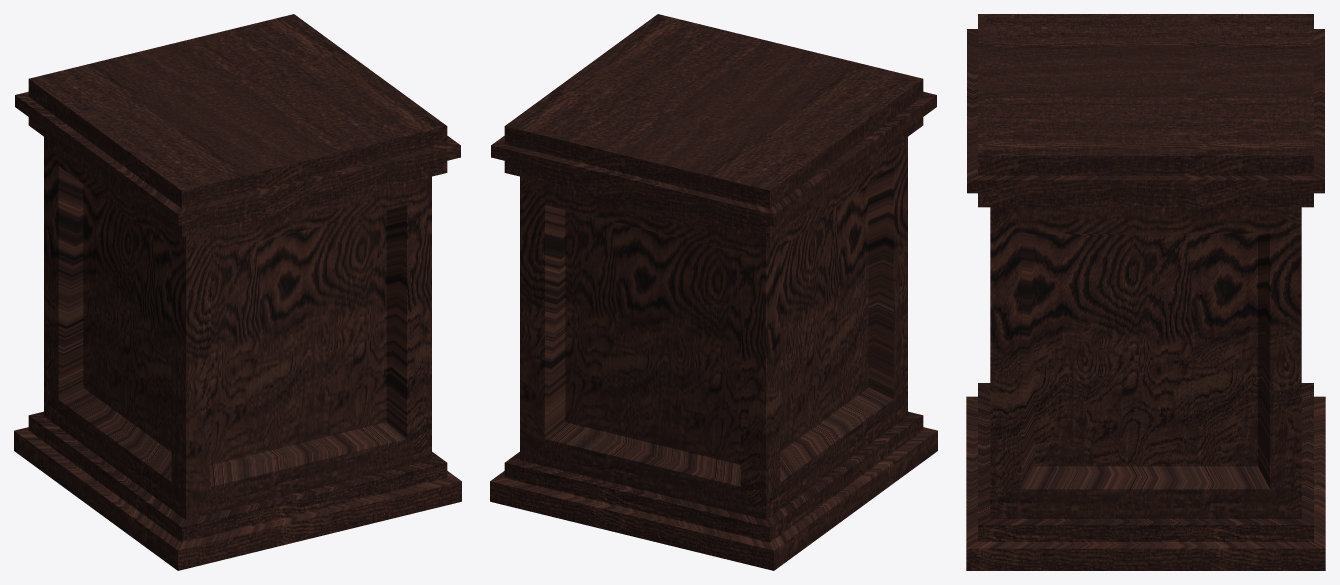
File: Object_Pedestal_DarkWoodClassic.glb
The picture shows the model from 3 angles, left to right: view 1: azimuth 30°, elevation 25°; view 2: azimuth 150°, elevation 25°; view 3: azimuth 270°, elevation 25°; orthographic projection. The views are drawn at different scales.
Visible parts, largest first — view 1: Pedestal H3 S; view 2: Pedestal H3 S; view 3: Pedestal H3 S.
Boxes of the visible parts, x1,y1,x2,y2 form: Pedestal H3 S: (14,14,461,570); Pedestal H3 S: (490,14,937,570); Pedestal H3 S: (966,14,1325,570).
Size of the model in its own units: 2.12 by 2.67 by 2.12.
Materials: 1 (1 with a texture image).
